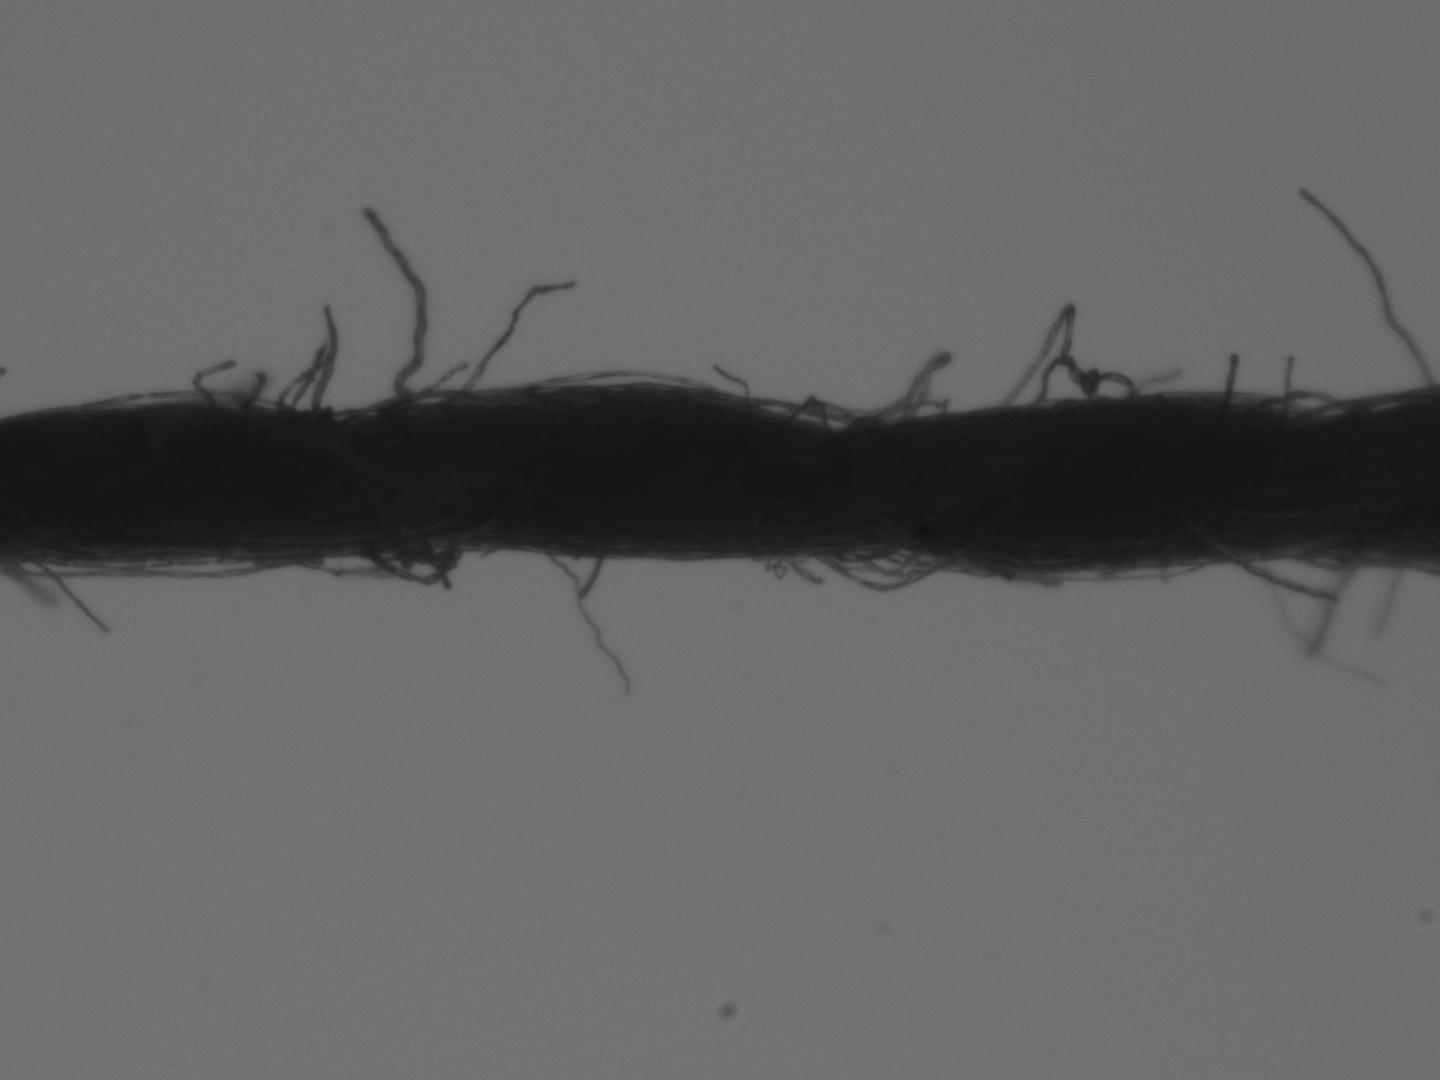loop_fiber: (740, 349, 959, 441), (988, 303, 1146, 416), (801, 534, 983, 596), (347, 525, 467, 591), (71, 383, 303, 414), (523, 364, 711, 394), (1236, 385, 1349, 424), (1281, 549, 1400, 574)
protruding_fiber: (1296, 182, 1437, 376), (351, 194, 432, 404), (455, 278, 577, 400)
